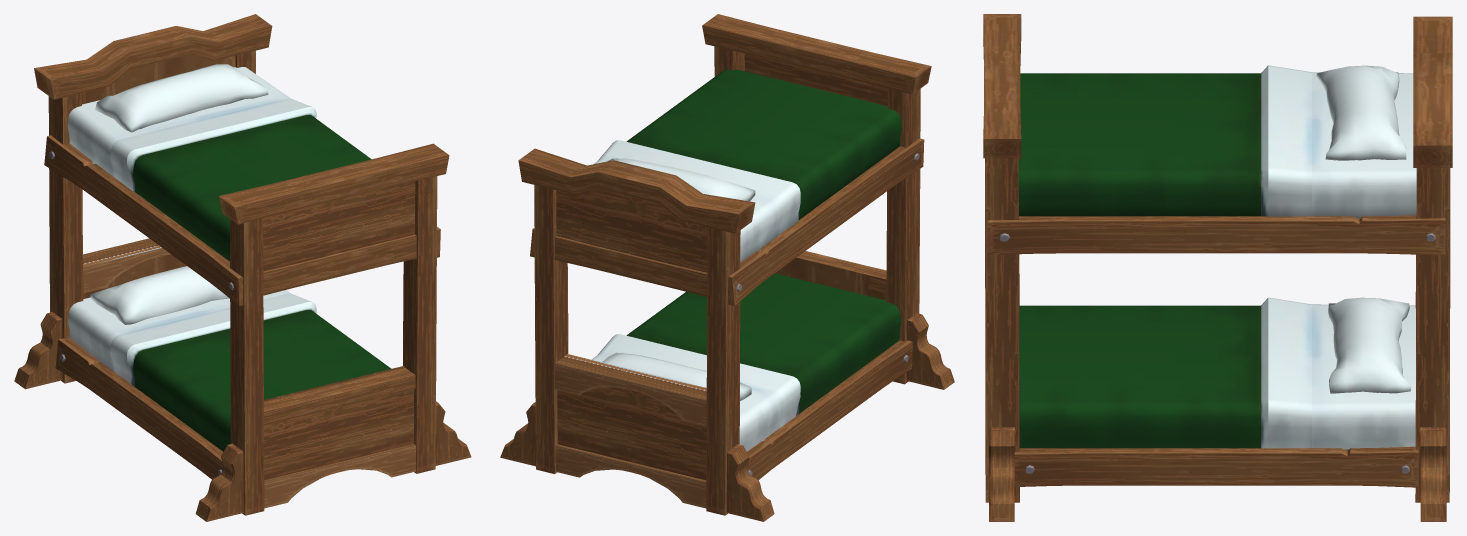
The model's file is Bed_Bunk2.glb.
3 views of the same model, side by side, from view 1: azimuth 30°, elevation 25°; view 2: azimuth 150°, elevation 25°; view 3: azimuth 270°, elevation 25° (orthographic). The views are drawn at different scales.
Visible parts, largest first — view 1: Bed_Bunk2; view 2: Bed_Bunk2; view 3: Bed_Bunk2.
Boxes of the visible parts, bbox=[...] form: Bed_Bunk2: bbox=[14, 14, 471, 521]; Bed_Bunk2: bbox=[500, 14, 954, 521]; Bed_Bunk2: bbox=[983, 14, 1452, 521].
Bounding box in the file's own units: 1.88 × 2.13 × 2.42.
Materials: 3 (3 with a texture image).
